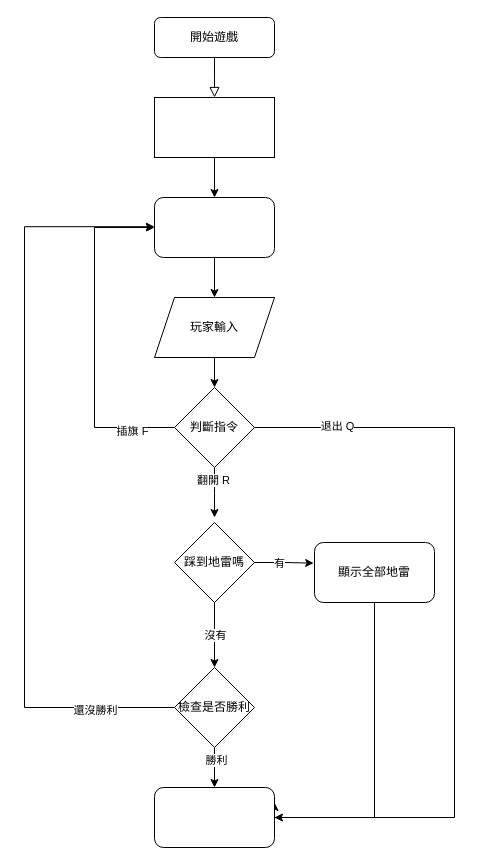
The diagram is 480 pixels wide and 865 high, and some of its shapes have lost their labels. Each missing label, with the centre of its shape:
初始化設定: (214,127)
印出畫面: (214,227)
結束: (214,817)
